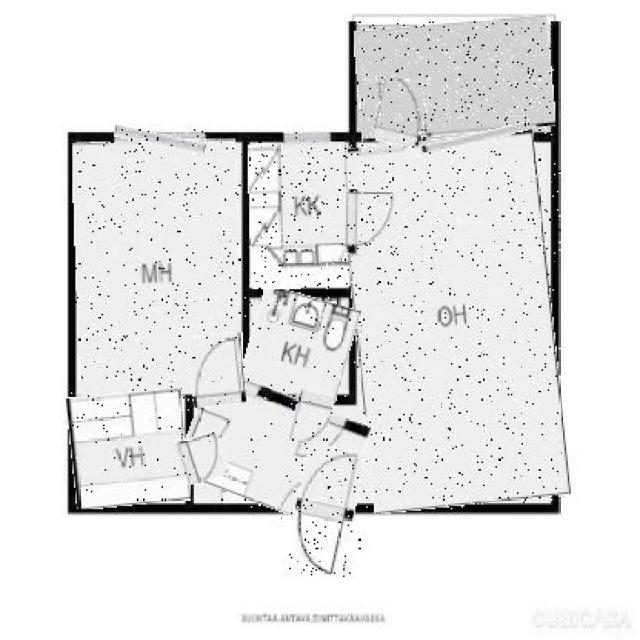door: (289, 443, 360, 577), (342, 189, 406, 254), (189, 334, 245, 408), (374, 77, 428, 148), (178, 432, 228, 483), (291, 391, 332, 446)
window: (422, 128, 529, 148), (114, 129, 206, 149), (283, 128, 329, 148)
zone: (346, 134, 562, 509), (75, 140, 242, 395), (182, 380, 363, 518), (355, 20, 554, 138), (249, 142, 351, 289), (69, 389, 189, 508), (244, 291, 356, 398)
